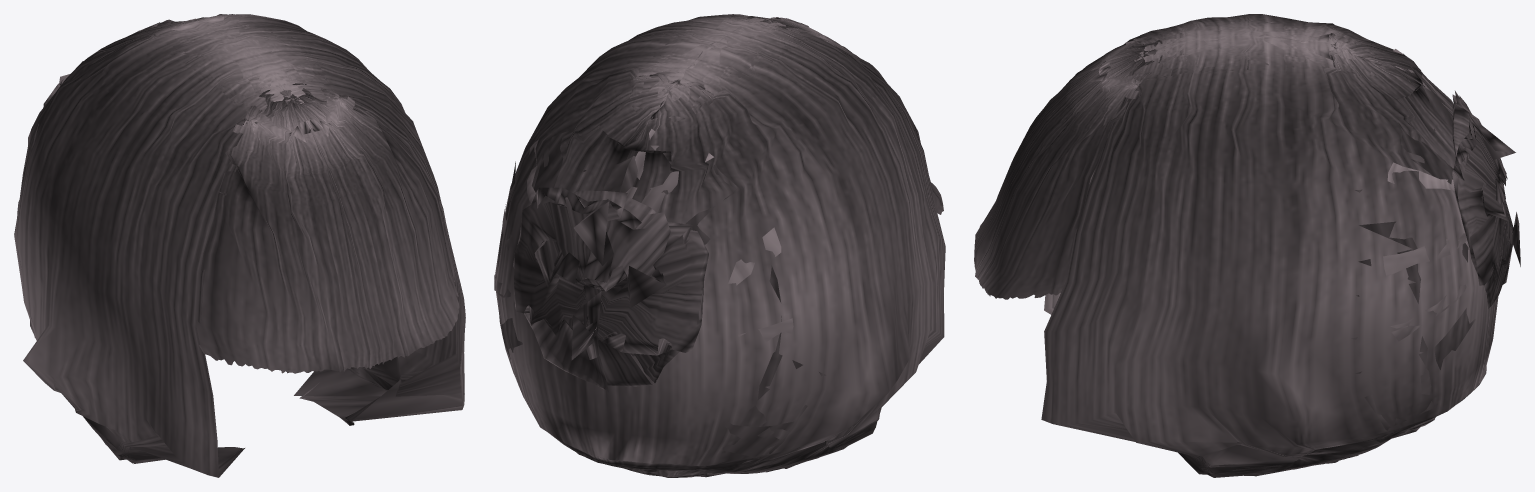
The model's file is hair_user_photo.glb.
3 views of the same model, side by side, from view 1: azimuth 30°, elevation 25°; view 2: azimuth 150°, elevation 25°; view 3: azimuth 270°, elevation 25° (orthographic).
Parts seen in each view (by area): view 1: hair_user_photo; view 2: hair_user_photo; view 3: hair_user_photo.
Part boxes in pixels (x1,y1,x2,y2): hair_user_photo: (14, 14, 465, 477); hair_user_photo: (494, 14, 945, 477); hair_user_photo: (974, 14, 1520, 477).
Size of the model in its own units: 0.1664 by 0.1545 by 0.2031.
1 material, 1 textured.
